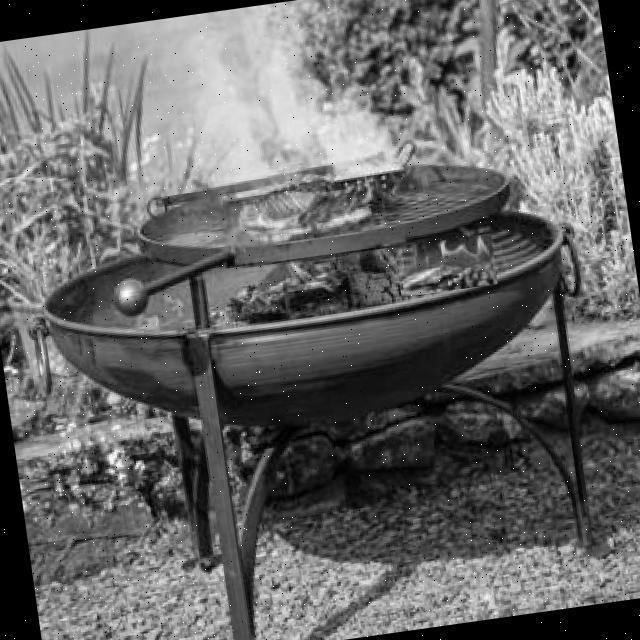fire: (394, 234, 498, 298)
